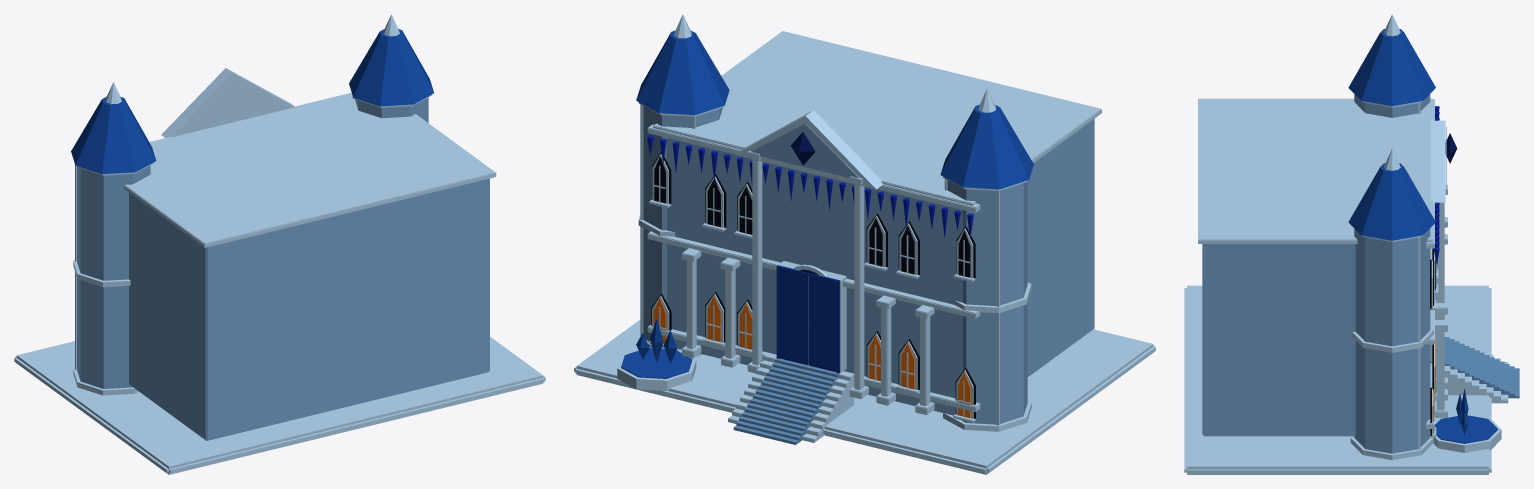
File: ice-palace-visual.obj
The picture shows the model from 3 angles, left to right: view 1: azimuth 30°, elevation 25°; view 2: azimuth 150°, elevation 25°; view 3: azimuth 270°, elevation 25°; orthographic projection. The views are drawn at different scales.
Parts seen in each view (by area): view 1: PalaceHall, Foundation_01, IceTurret17.6, IceTurret-17.6, Pediment; view 2: PalaceHall, IceTurret17.6, Foundation_01, IceTurret-17.6, Colonnade, Windows, Pediment, FrozenFountain, HouseDoorLeaf_R_Panel, HouseDoorLeaf_L_Panel, Approach, HouseFX_IcicleAccent_2 (+4 smaller); view 3: PalaceHall, IceTurret-17.6, Foundation_01, IceTurret17.6, FrozenFountain, Colonnade, Pediment, Approach, Windows.
Part boxes in pixels (x1,y1,x2,y2): PalaceHall: (124,92,496,440); Foundation_01: (14,336,545,474); IceTurret17.6: (71,82,156,395); IceTurret-17.6: (349,14,433,122); Pediment: (161,68,294,137); PalaceHall: (647,31,1101,415); IceTurret17.6: (940,88,1033,431); Foundation_01: (574,320,1155,474); IceTurret-17.6: (636,14,729,357); Colonnade: (682,151,934,415); Windows: (702,174,919,393); Pediment: (735,110,882,189); FrozenFountain: (617,318,696,390); HouseDoorLeaf_R_Panel: (809,278,836,370); HouseDoorLeaf_L_Panel: (779,271,806,363); Approach: (728,353,854,442); HouseFX_IcicleAccent_2: (660,138,973,238); PalaceHall: (1198,98,1434,436); IceTurret-17.6: (1348,149,1436,460); Foundation_01: (1184,285,1491,474); IceTurret17.6: (1348,14,1435,117); FrozenFountain: (1433,389,1501,452); Colonnade: (1435,139,1447,417); Pediment: (1430,120,1457,202); Approach: (1444,333,1508,403); Windows: (1432,248,1438,398).
Size of the model in its own units: 59.04 by 45.53 by 45.63.
